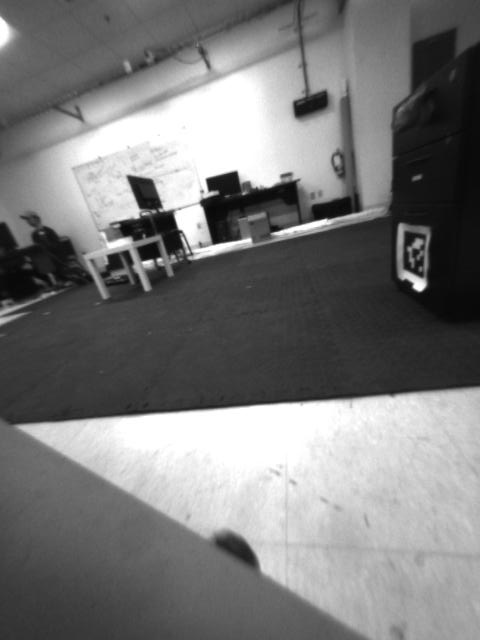drawer: (382, 84, 445, 129)
